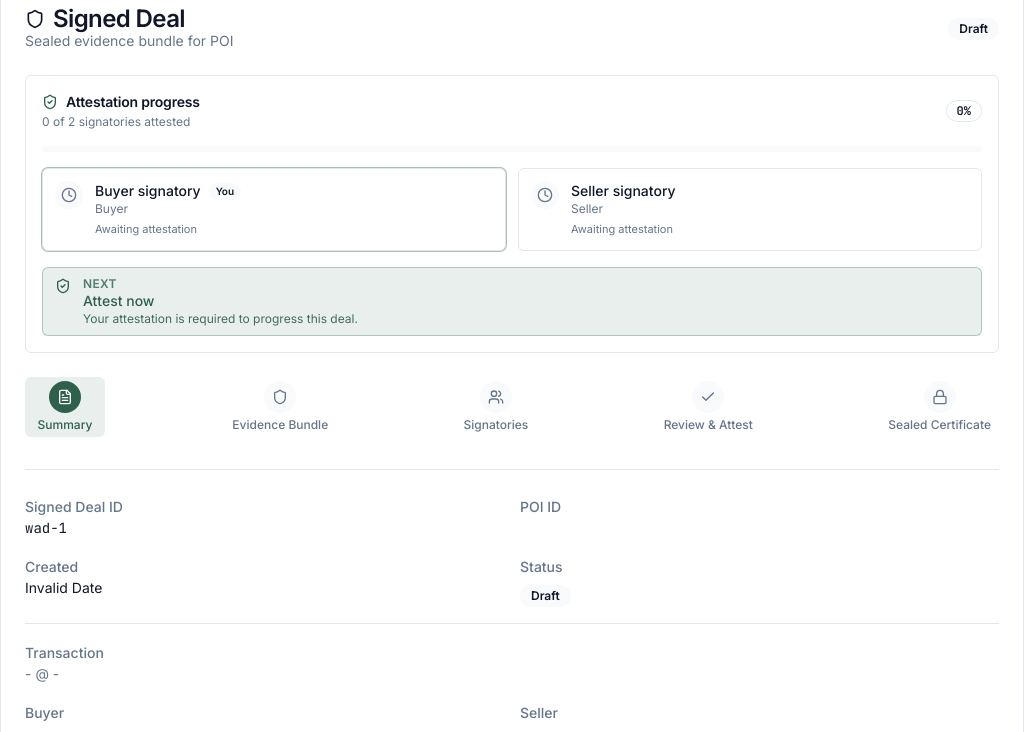
Test: WadStepper attest keyboard shortcut › triggers Retry when the button is in the post-error 'Retry attestation' state
Later steps or results of the test are not shown.
Click the button "Review & Attest" at (708, 407), box [656,377,761,437]
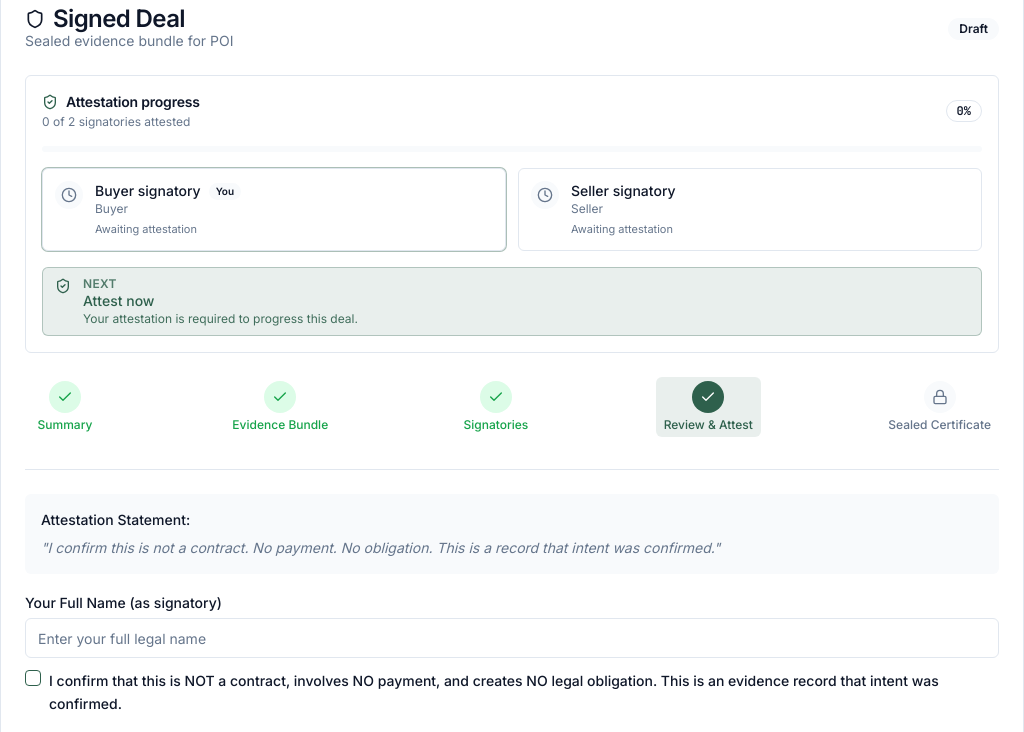
Type "Jane Doe" into the field labelled "Your Full Name (as signatory)" at (512, 638), box [25,618,999,658]
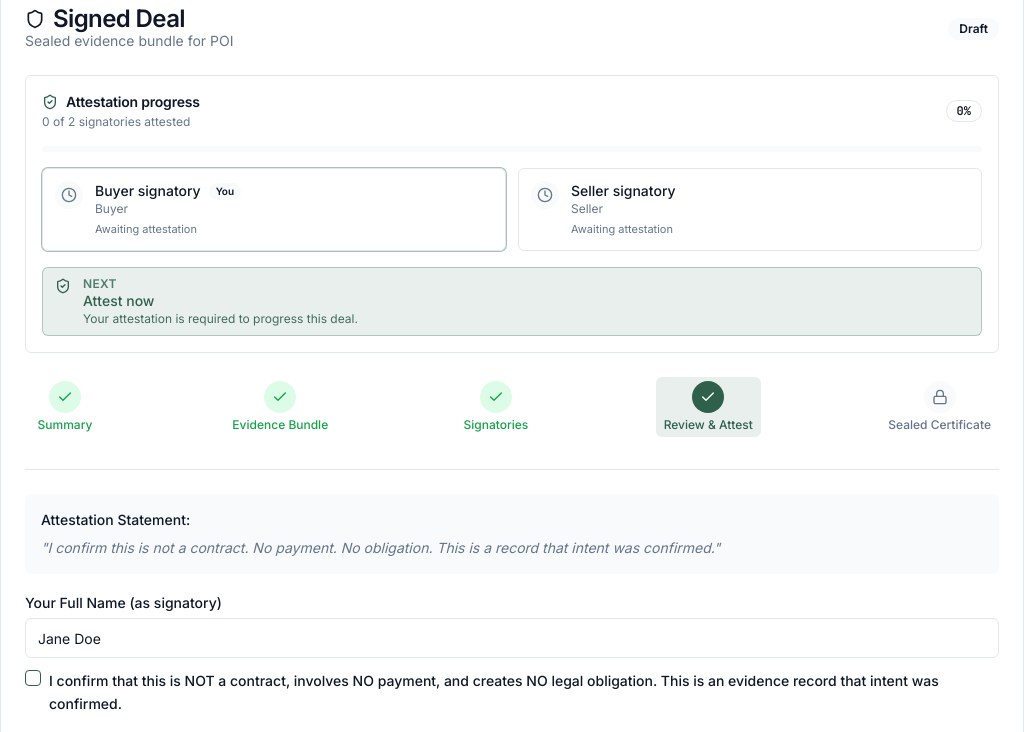
Click the checkbox named "i confirm that this is not a contract" at (33, 678), box [25,670,41,686]
(page scrolled)
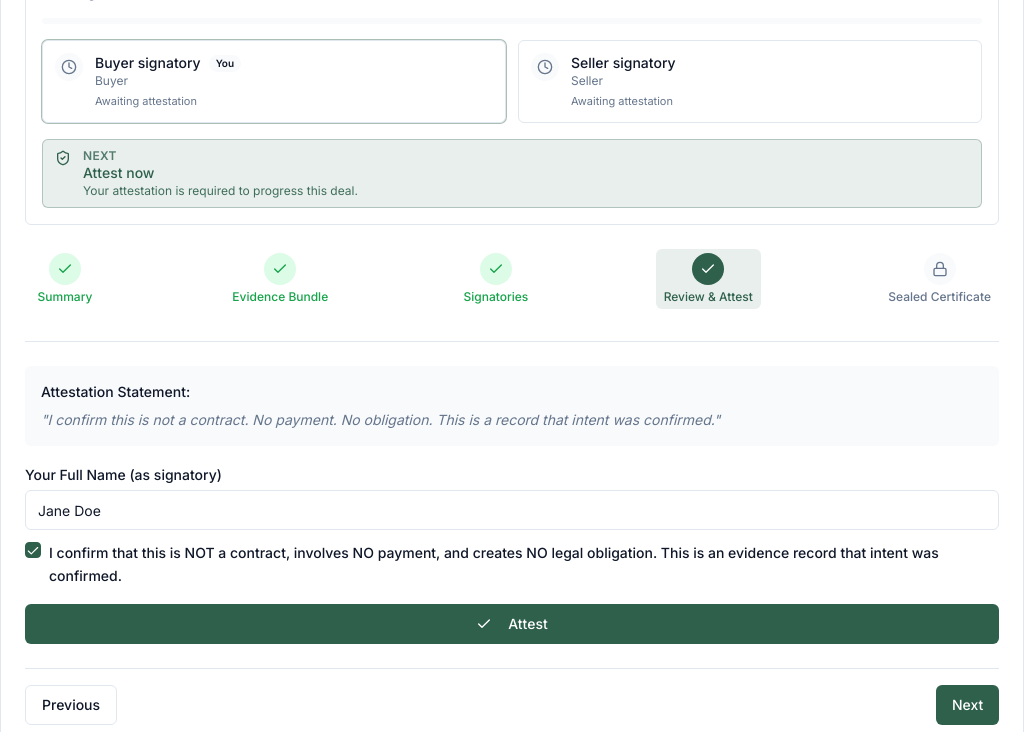
Click the button with test id "attest-submit-button" at (512, 624), box [25,604,999,644]
(page scrolled)
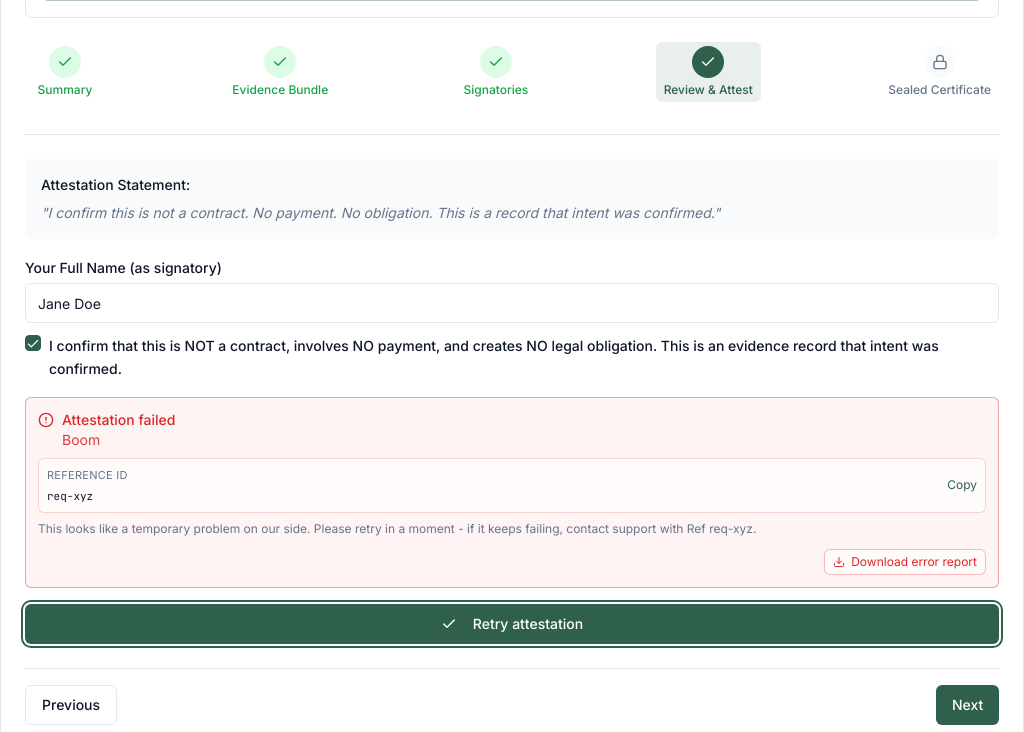
Result: the text with test id "attest-error-hint" is shown at [38,520,756,536]
Result: the button "Retry attestation" is shown at [25,604,999,644]
